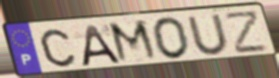A: (80, 23, 123, 68)
C: (38, 27, 78, 68)
M: (106, 18, 162, 65)
O: (151, 16, 192, 61)
U: (185, 12, 232, 56)
Z: (223, 9, 270, 56)
